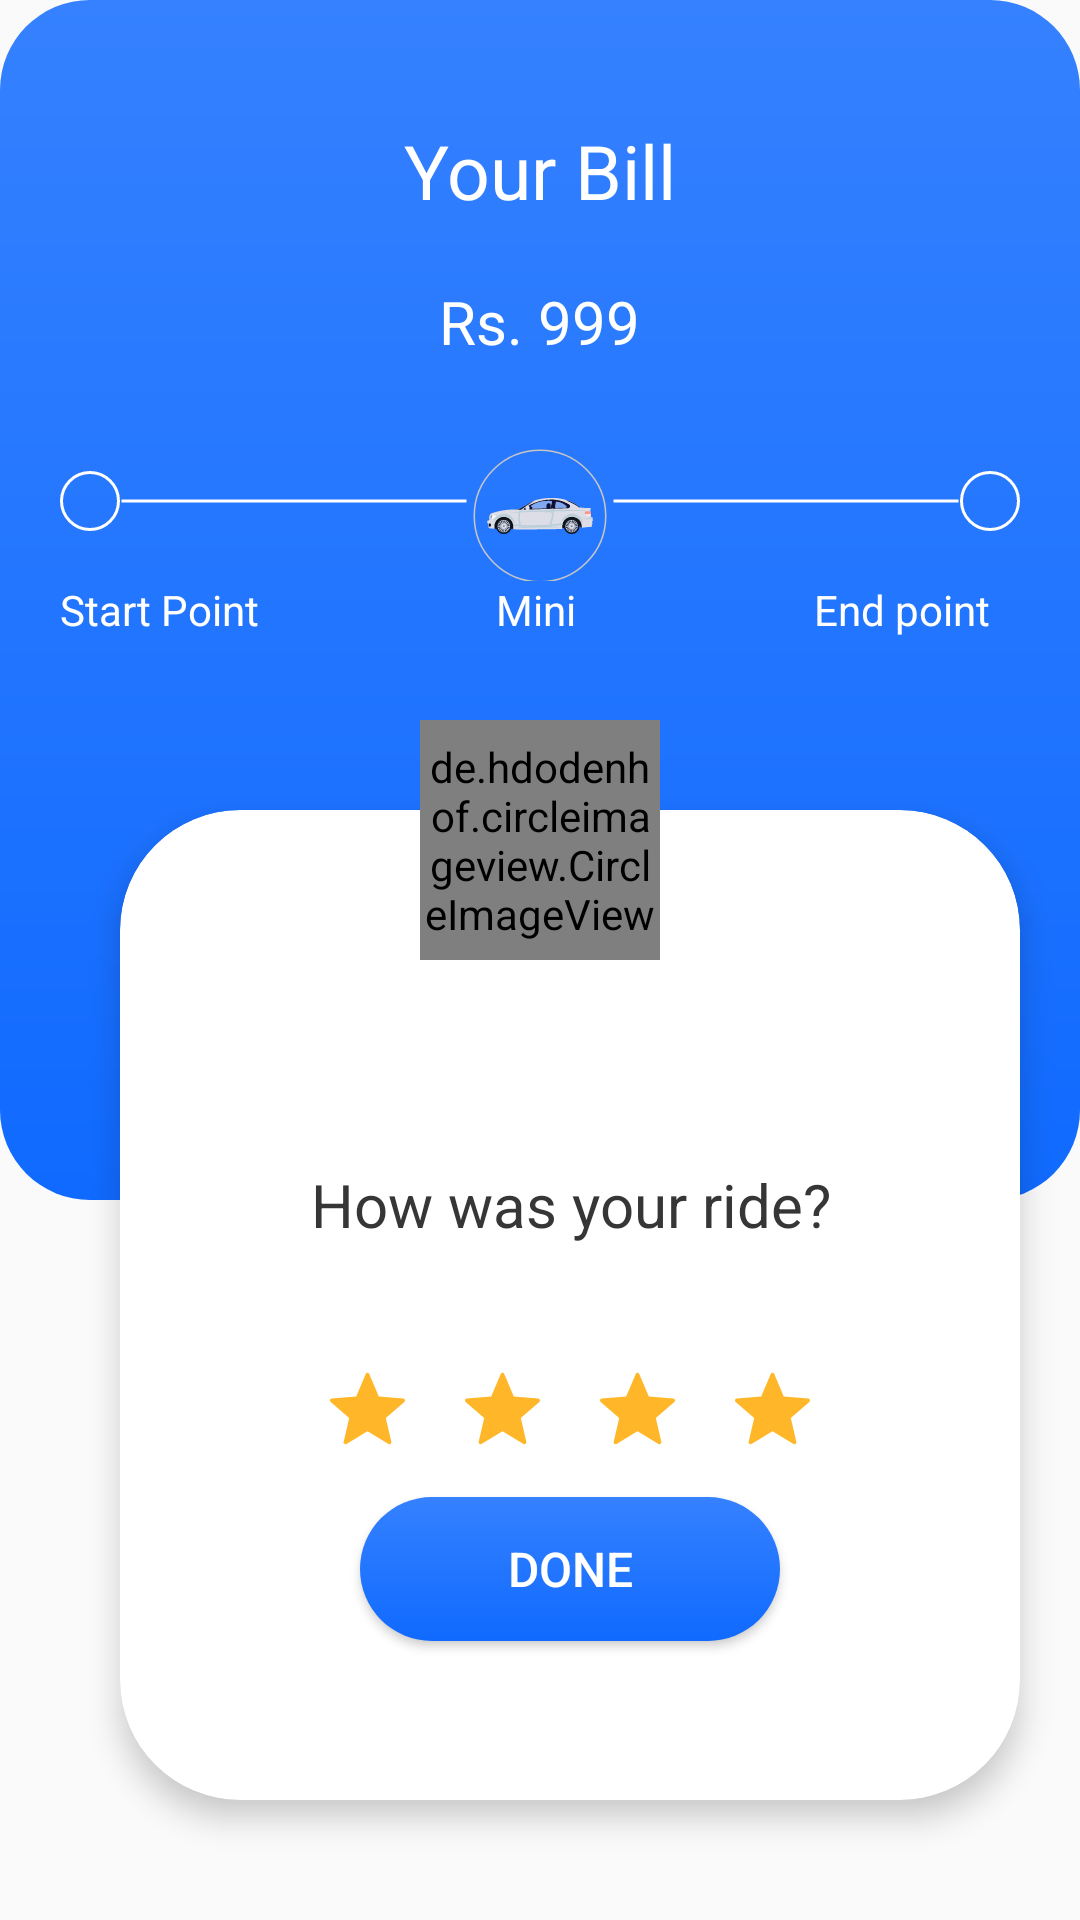

Screen size 1080 × 1920. Icon name, then its box in pixels as (x1, y1, x2, y2):
sedan: (473, 449, 607, 581)
star: (330, 1372, 405, 1445), (465, 1372, 540, 1445), (600, 1372, 675, 1445), (735, 1372, 810, 1445)
